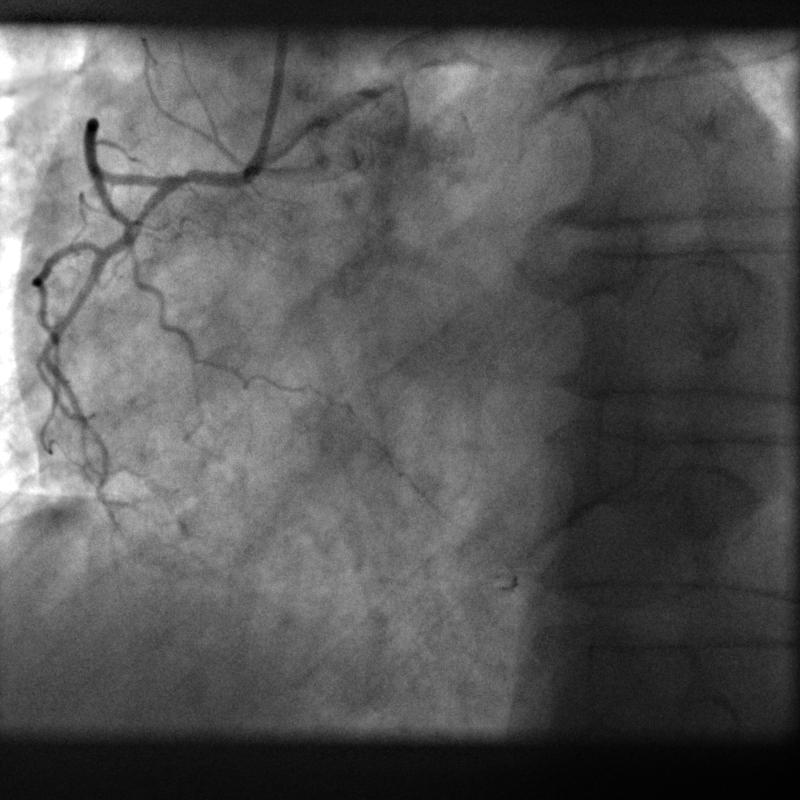Stenosis: (163, 161, 202, 192)
